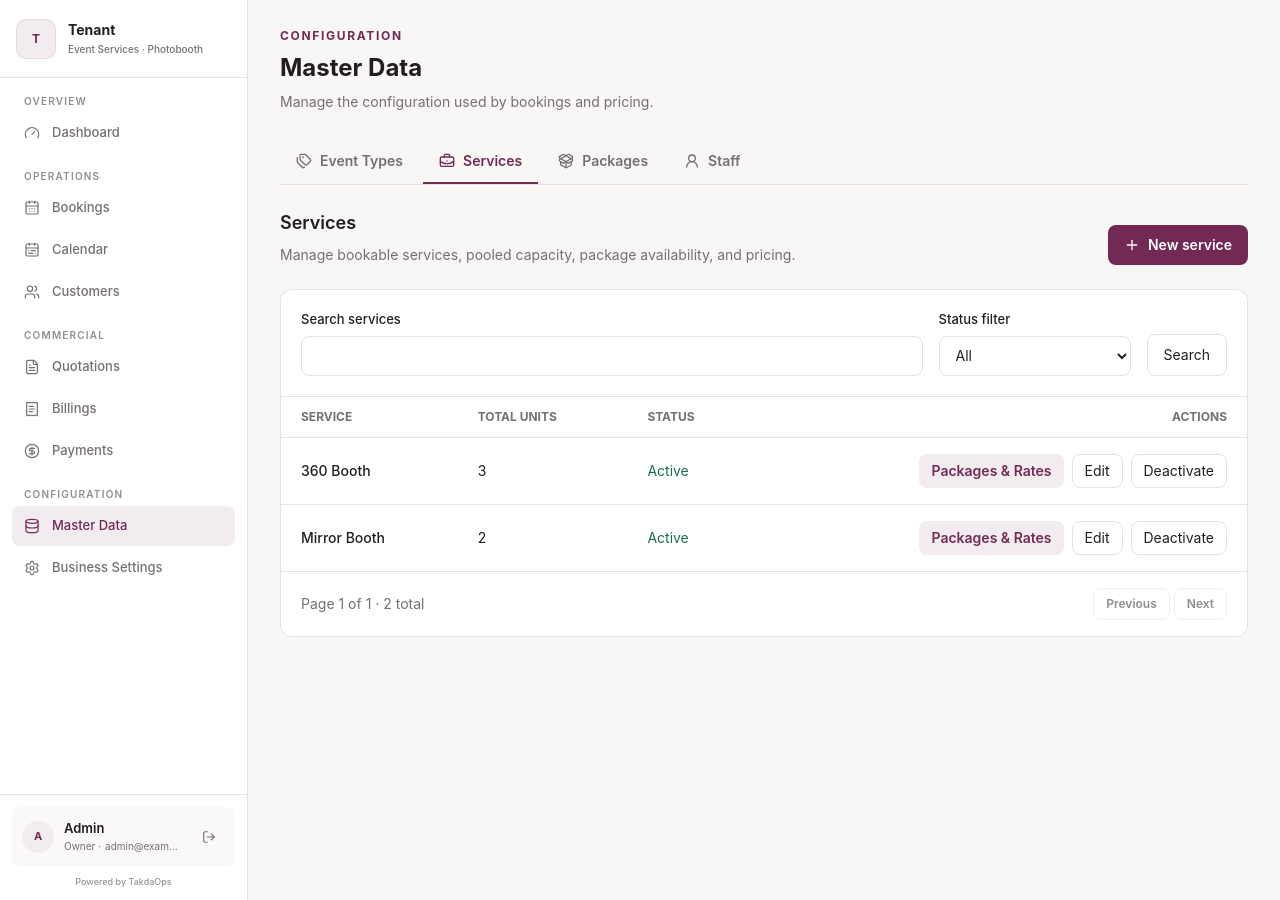
Test: loads contextual rates and switches Event Types
Click the button "Packages & Rates" in the row of "360 Booth". click: (992, 470)
box: [920,454,1064,488]
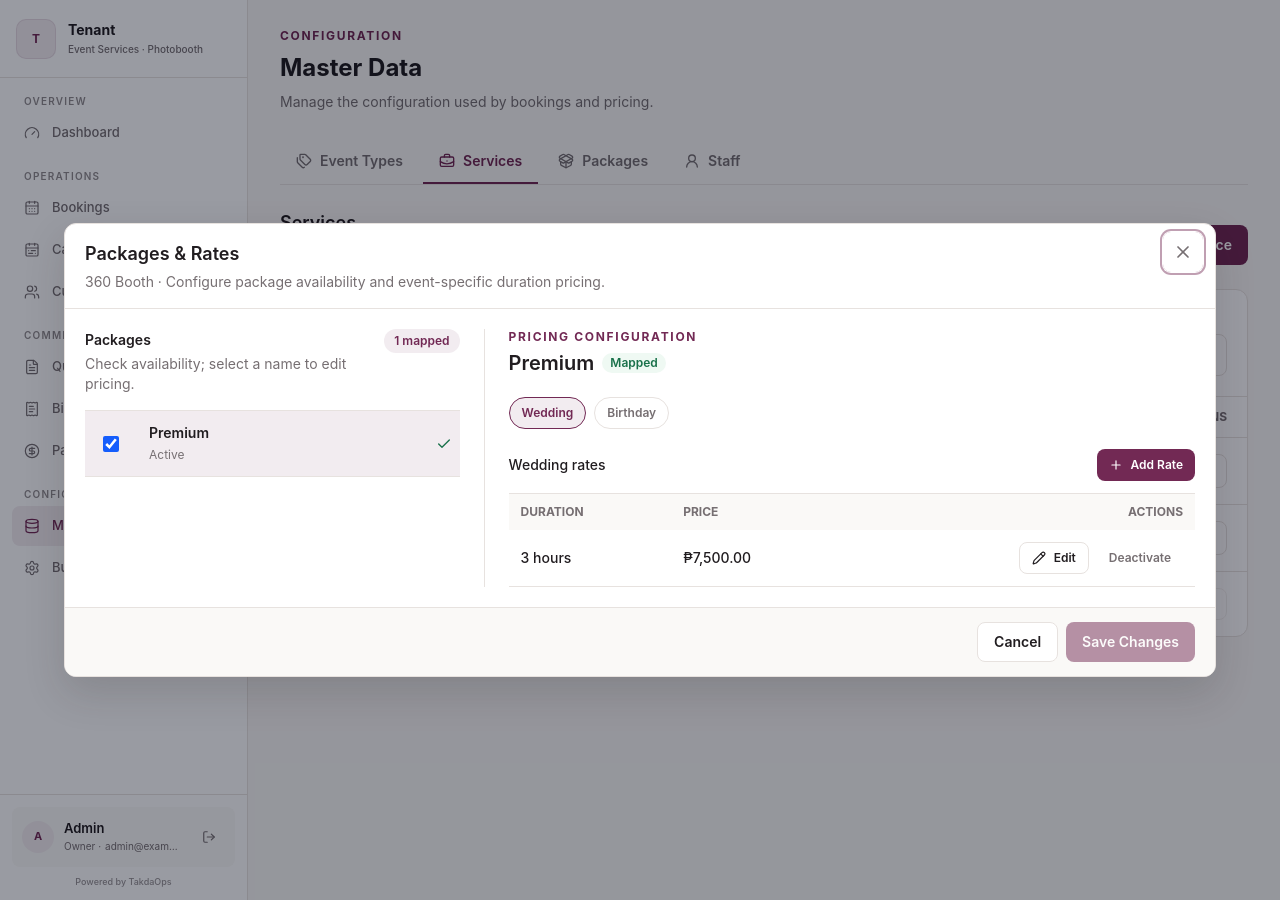
Expected: the dialog "Packages & Rates" is shown, [64,223,1216,677]
Expected: the text "₱7,500.00" is shown, [683,549,751,566]
Expected: the text "3 hours" is shown, [509,530,671,586]
Click the tab "Birthday". click: (632, 413)
box: [594,397,669,429]
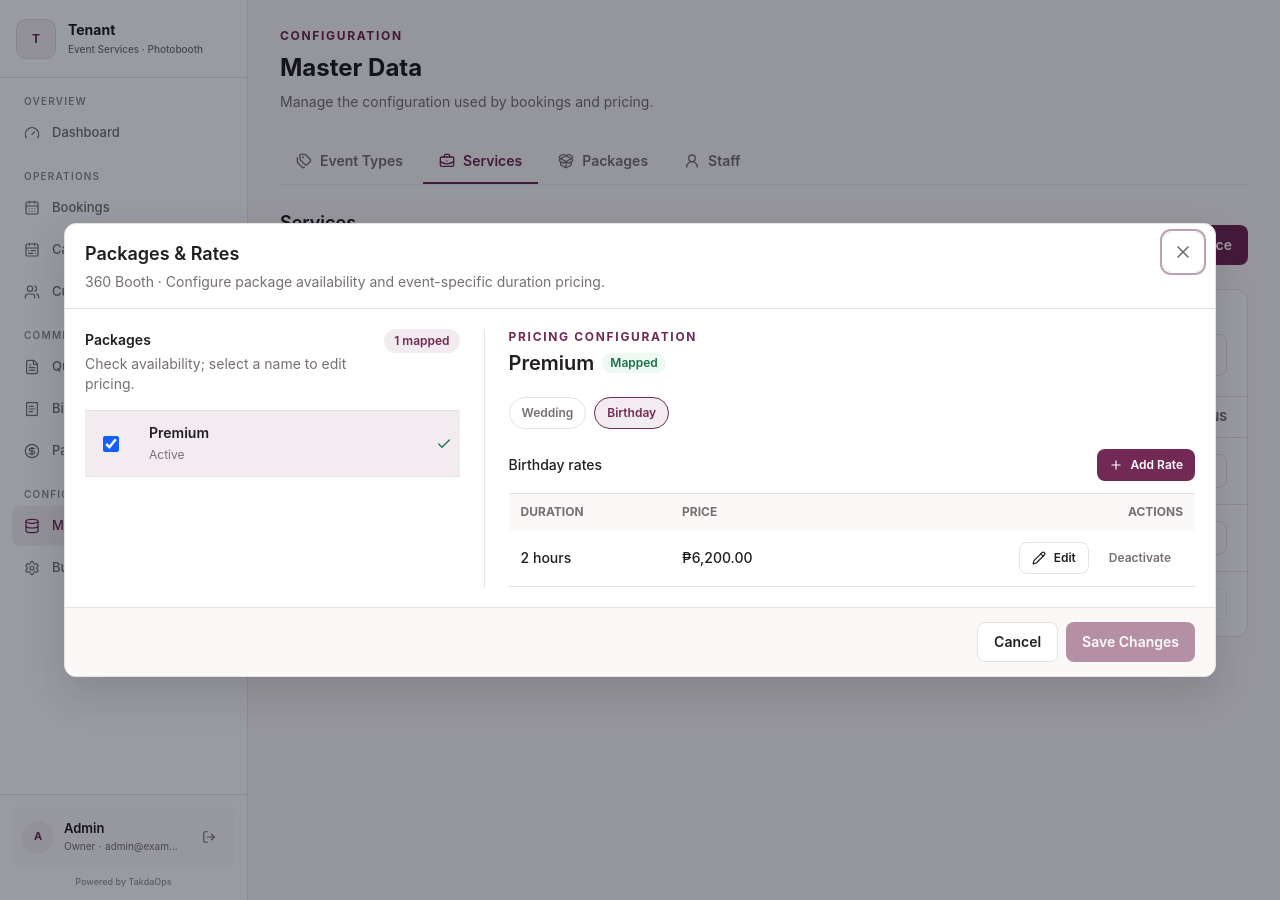
Expected: the text "₱6,200.00" is shown, [682,549,752,566]
Expected: the text "2 hours" is shown, [509,530,670,586]
